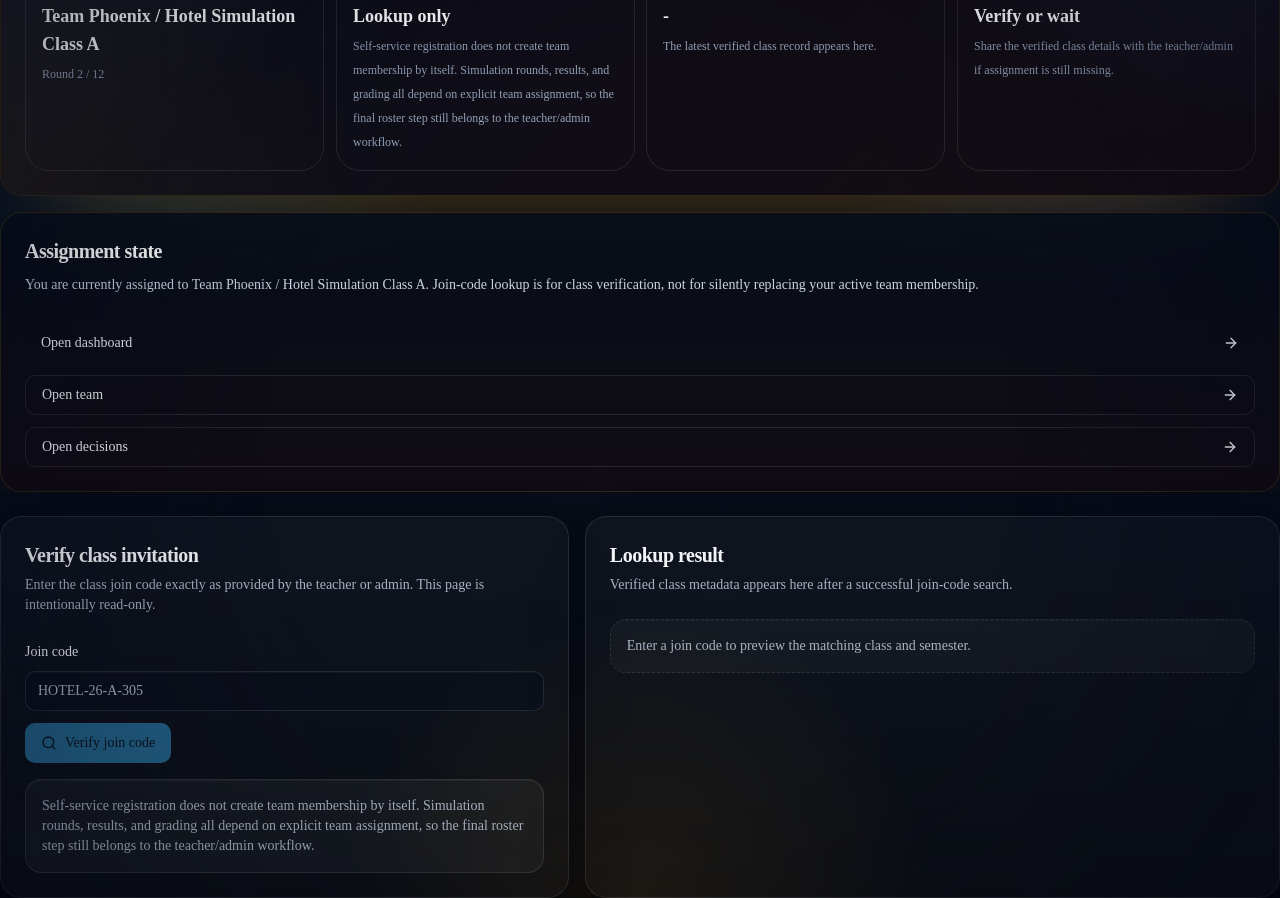
Test: StudentJoinClassPanel › waits for an explicit submit, uppercases the join code, and renders the verified class result
(page scrolled)
Expected: the text "Enter a join code to preview the matching class and semester." is shown, [610,619,1255,673]
Expected: the button "Verify join code" is disabled, [25,723,171,763]
Type " hotel-26-a-305 " into the field labelled "Join code" at (284, 691), box [25,671,544,711]
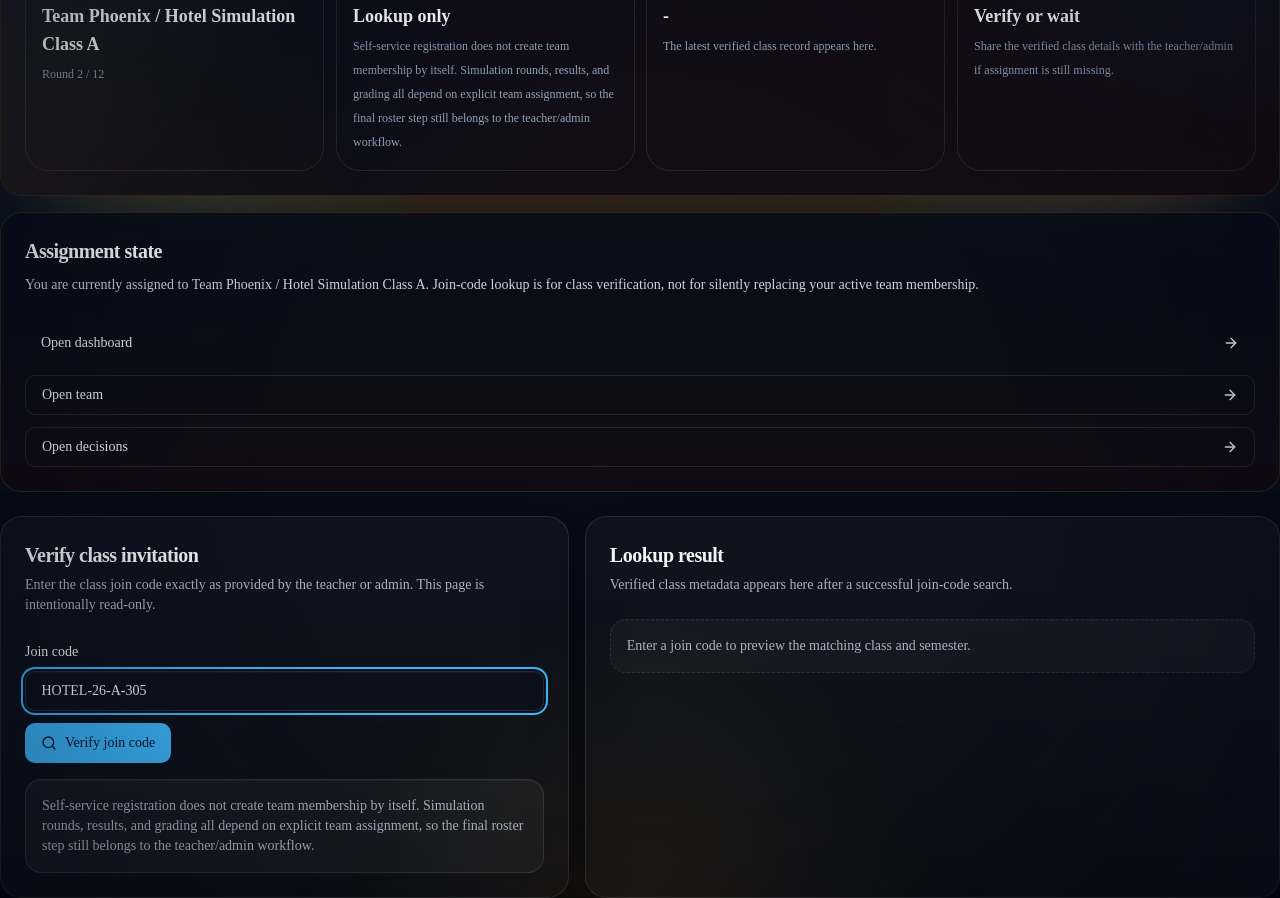
Expected: the button "Verify join code" is enabled
Click the button "Verify join code" at (98, 743), box [25,723,171,763]
(page scrolled)
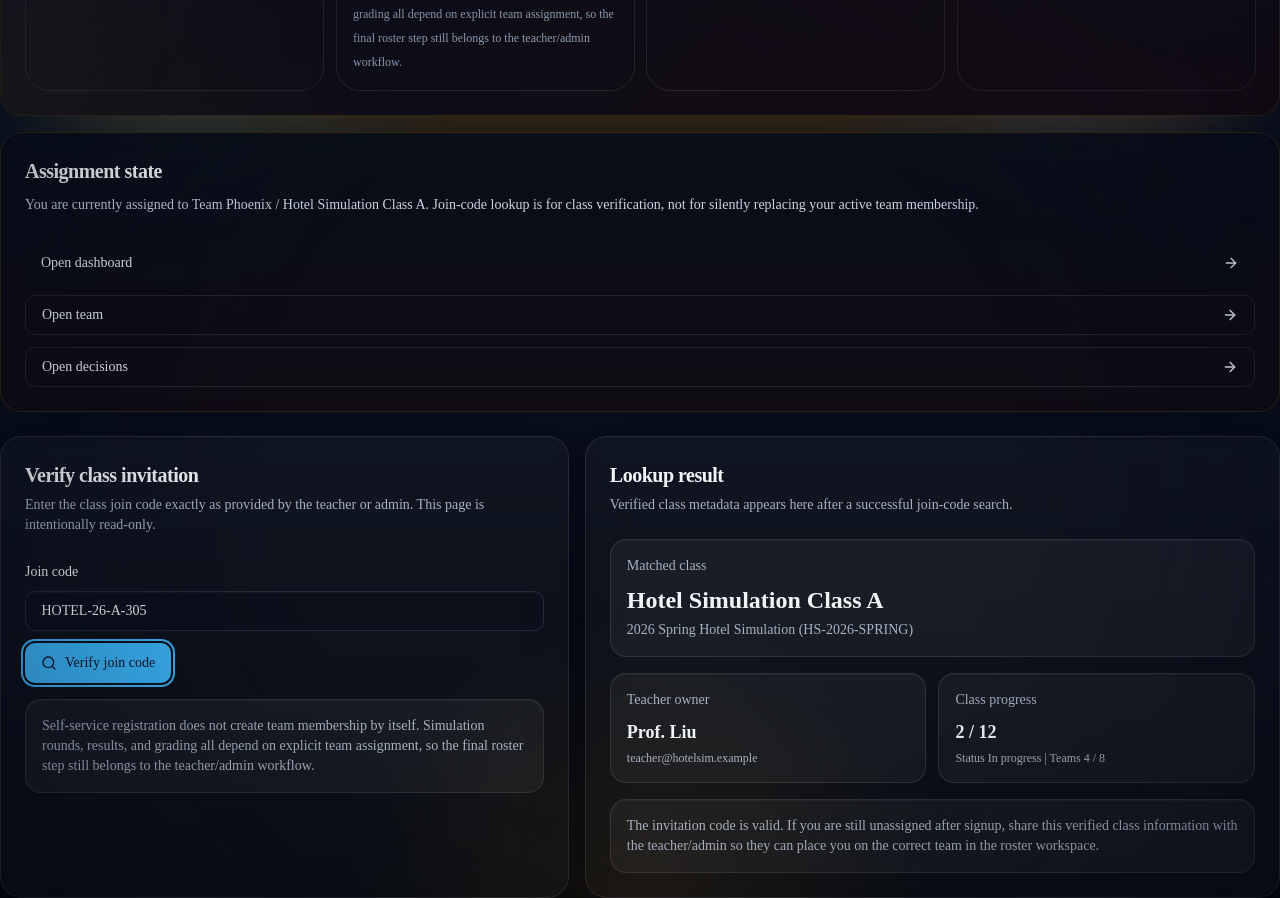
Expected: the text "Hotel Simulation Class A" is shown, [627,587,884,613]
Expected: the text "Prof. Liu" is shown, [627,722,696,742]
Expected: the text "The invitation code is valid." is shown, [627,818,1238,853]
